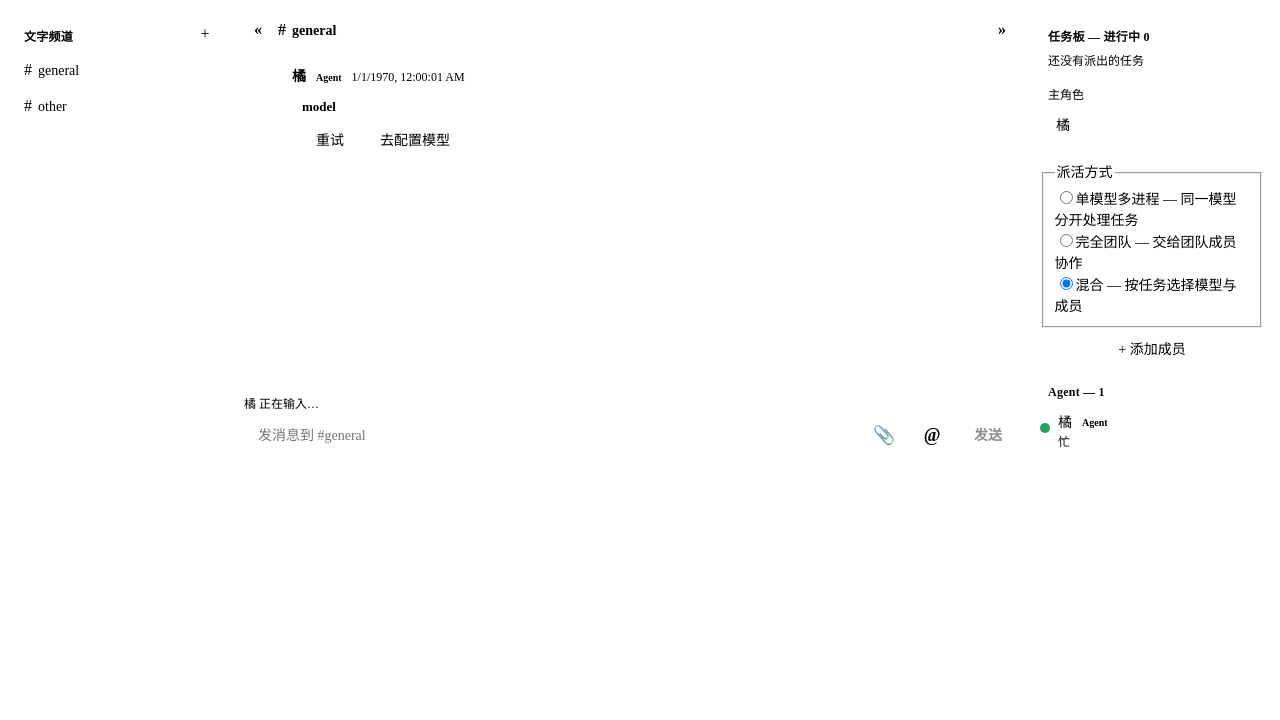
Test case: channels page › routes model configuration with shell available=false
Click the button "去配置模型": coordinates (415, 140) [366,122,464,158]
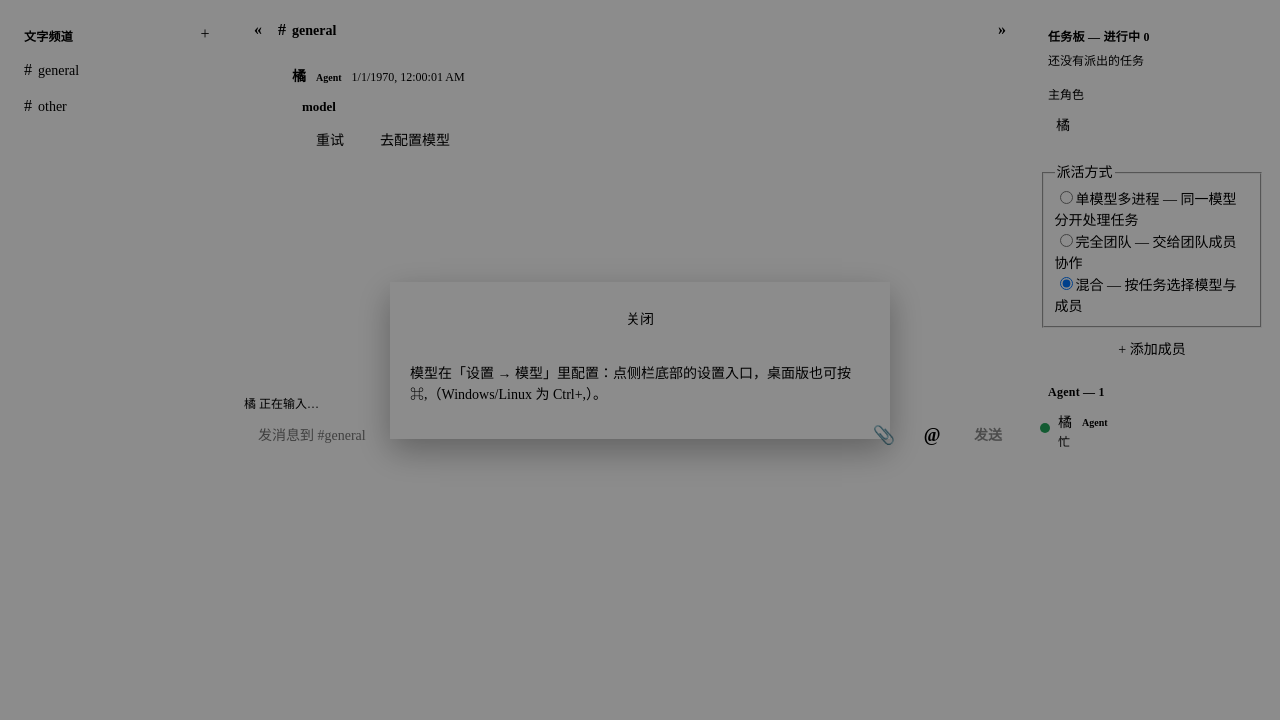
Result: the text "模型在「设置 → 模型」里配置：点侧栏底部的设置入口，桌面版也可按 ⌘,（Windows/Linux 为 Ctrl+,）。" is shown at [410,362,870,404]
Click the button "关闭": coordinates (640, 319) [410,302,870,336]
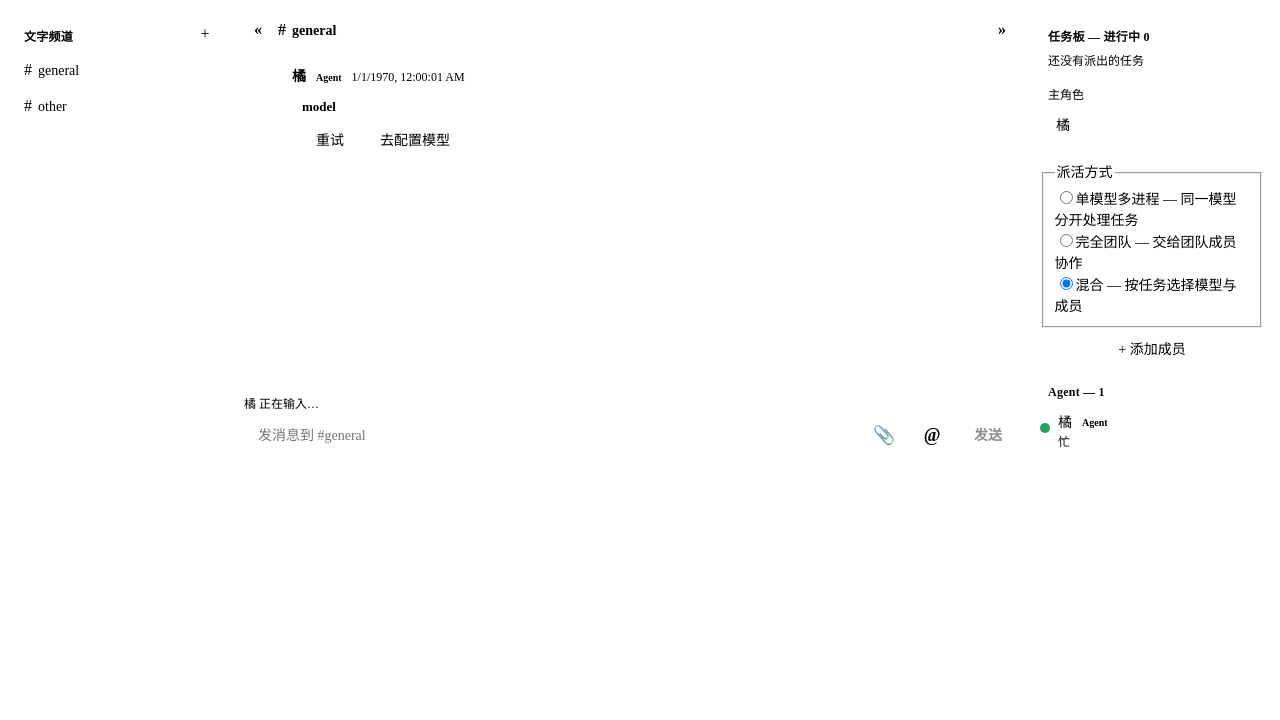
Result: the text "模型在「设置 → 模型」里配置：点侧栏底部的设置入口，桌面版也可按 ⌘,（Windows/Linux 为 Ctrl+,）。" is gone
